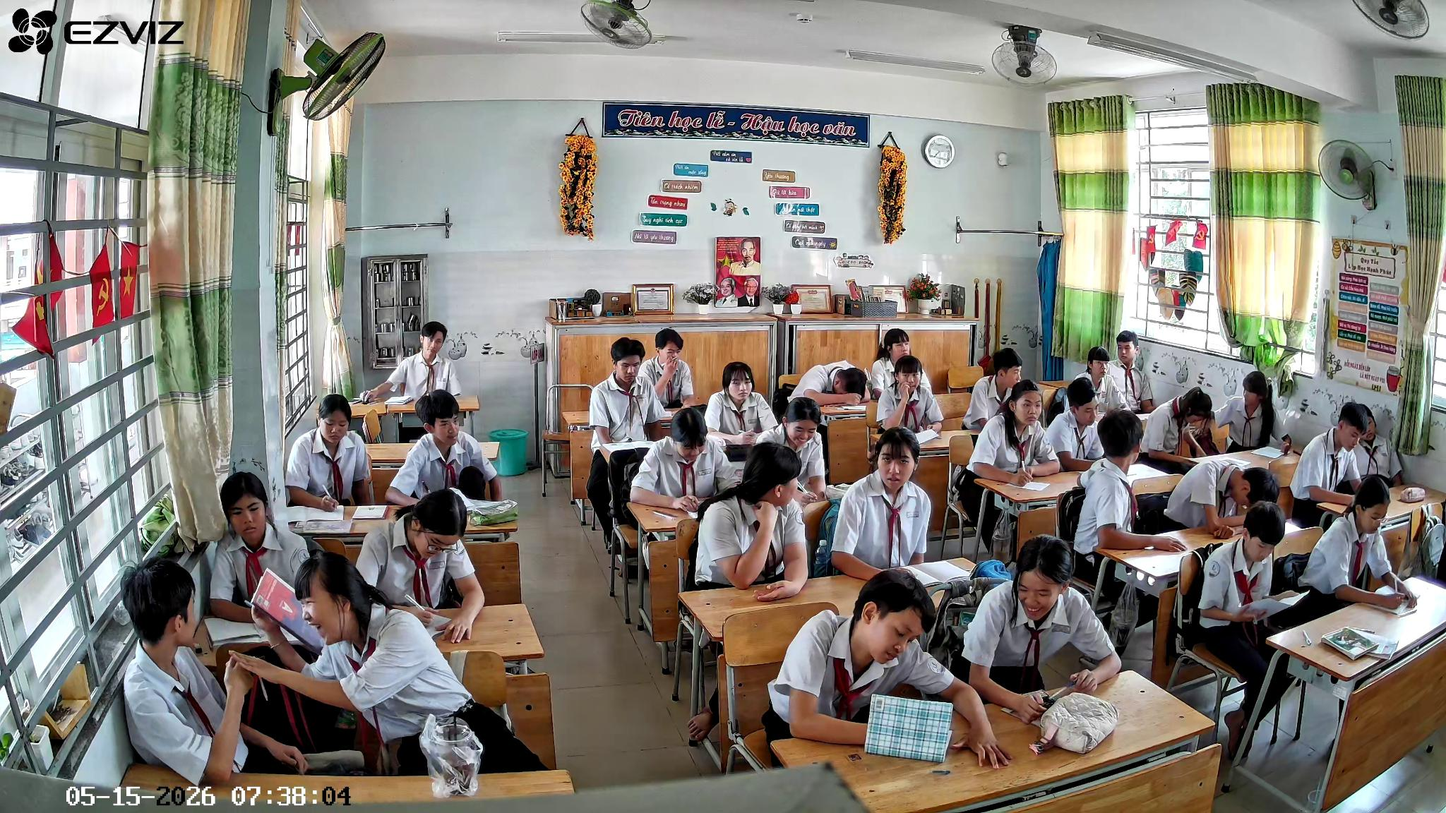person: (224, 549, 544, 774), (117, 557, 358, 784), (758, 568, 1013, 774), (955, 534, 1123, 726), (1072, 411, 1188, 678), (1176, 501, 1289, 760), (353, 488, 486, 644), (953, 381, 1063, 557), (690, 442, 810, 603), (586, 337, 664, 558), (203, 471, 315, 624), (1291, 475, 1417, 611), (1289, 402, 1426, 527), (830, 428, 934, 580), (384, 389, 504, 508), (628, 405, 749, 522), (361, 320, 463, 443), (284, 394, 376, 512), (751, 397, 829, 524), (1163, 461, 1284, 540), (960, 347, 1025, 461), (1139, 387, 1222, 473), (1214, 370, 1293, 457), (704, 361, 782, 449), (875, 355, 946, 445), (1046, 378, 1108, 473), (639, 328, 695, 416), (1099, 331, 1156, 415), (870, 328, 935, 399), (784, 359, 868, 408), (1069, 347, 1121, 423)
